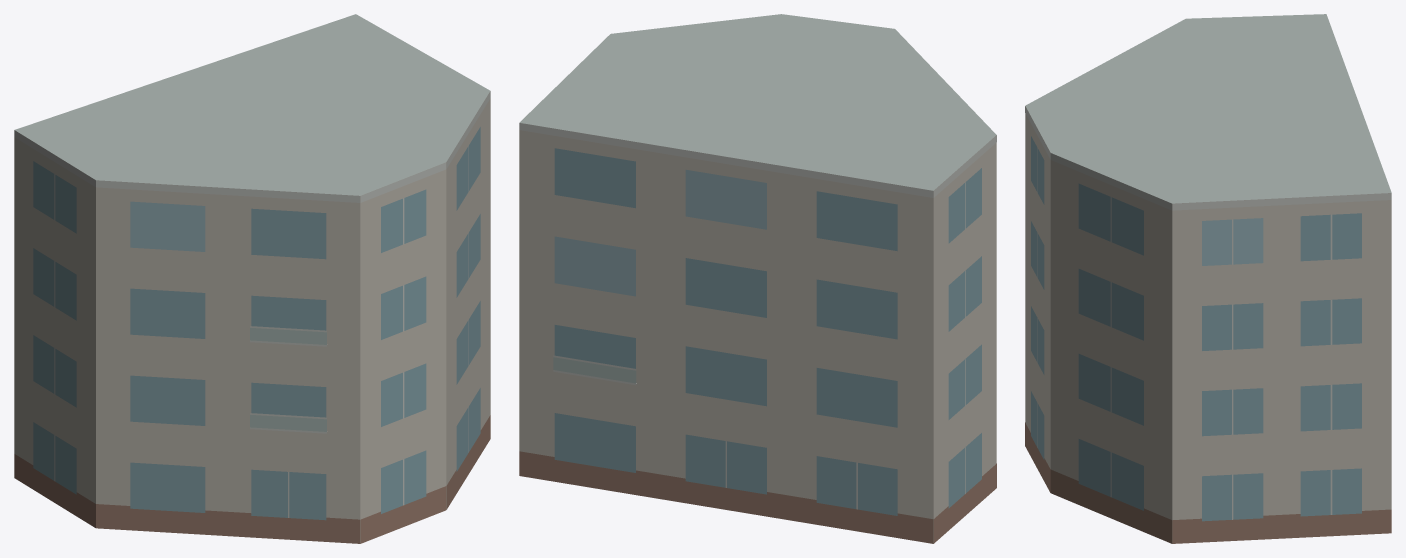
File: survey-upis-32763842.glb
3 renders of one model, left to right at view 1: azimuth 30°, elevation 25°; view 2: azimuth 150°, elevation 25°; view 3: azimuth 270°, elevation 25°, orthographic. The views are drawn at different scales.
Parts seen in each view (by area): view 1: survey-upis-32763842.tmp; view 2: survey-upis-32763842.tmp; view 3: survey-upis-32763842.tmp.
Part boxes in pixels (x1,y1,x2,y2): survey-upis-32763842.tmp: [14, 14, 490, 543]; survey-upis-32763842.tmp: [519, 14, 996, 543]; survey-upis-32763842.tmp: [1025, 14, 1391, 543].
Bounding box in the file's own units: 14.17 × 11.85 × 11.58.
